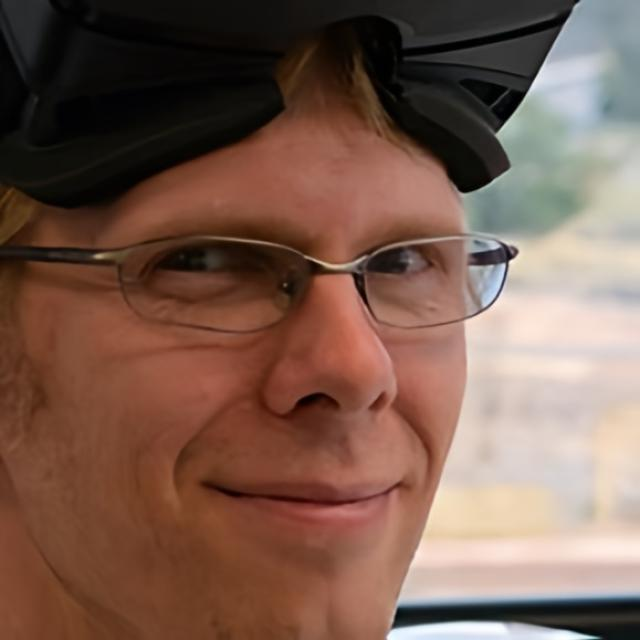content: (0, 107, 470, 637)
